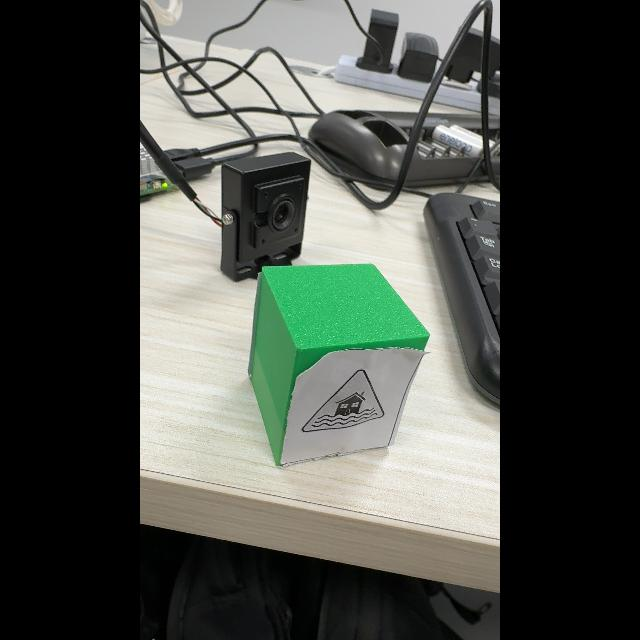Tsunami: (302, 370, 384, 432)
